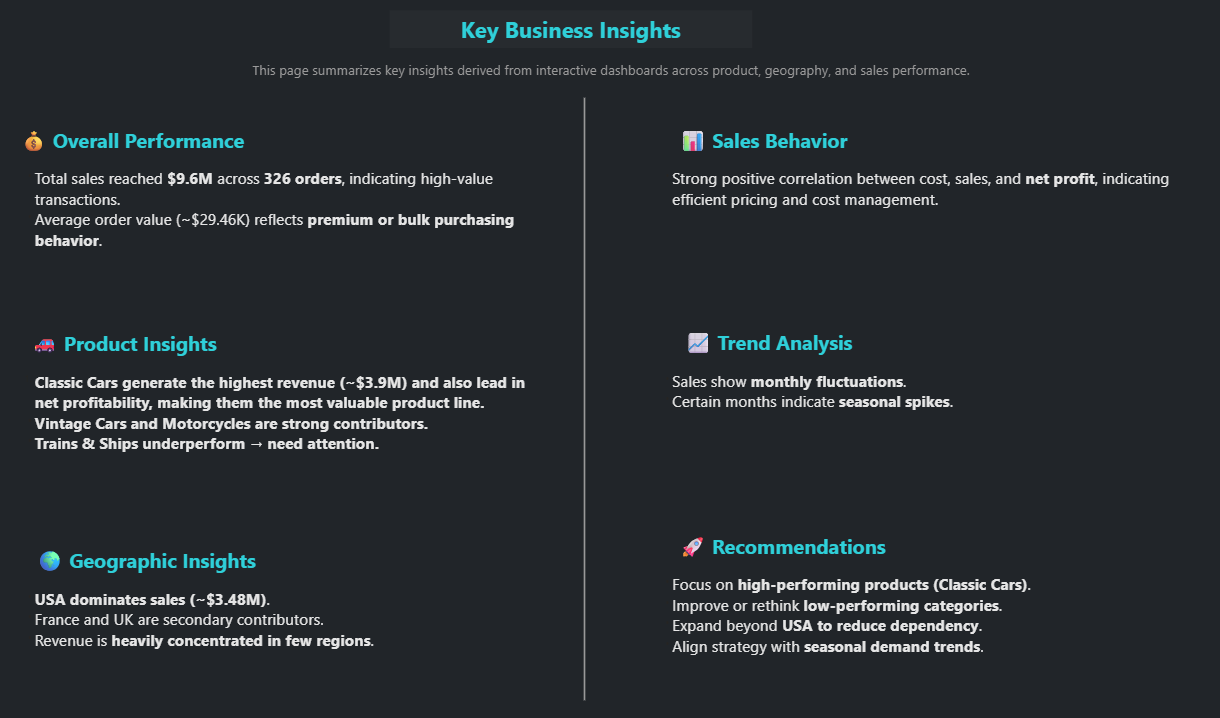

What the dashboard file says about the page in this screenshot:
{"tool":"powerbi","page":{"name":"Business Insights & Recommendations","canvas":[1500,900],"ordinal":2},"visuals":[{"type":"textbox","box":[485.6,25.6,437.3,45.2],"z":0},{"type":"textbox","box":[34.7,143.4,642.4,224],"z":1000},{"type":"textbox","box":[34.7,388.5,642.4,224],"z":2000},{"type":"textbox","box":[34.7,633.6,642.4,224],"z":3000},{"type":"textbox","box":[803.8,143.1,642.4,224.7],"z":4000},{"type":"textbox","box":[803.8,388.1,642.4,224.7],"z":5000},{"type":"textbox","box":[803.8,633.2,642.4,224.7],"z":6000},{"type":"shape","box":[692.2,131.2,57.3,726.9],"z":7000},{"type":"textbox","box":[315.2,81.4,932,33.2],"z":8000}]}

Visuals, with their boxes in screenshot pixels (x1, y1, x2, y2), scaled from the page's 1500x900 canvas onto the 1220x718 screenshot:
textbox: BBox(395, 20, 751, 56)
textbox: BBox(28, 114, 551, 293)
textbox: BBox(28, 310, 551, 489)
textbox: BBox(28, 505, 551, 684)
textbox: BBox(654, 114, 1176, 293)
textbox: BBox(654, 310, 1176, 489)
textbox: BBox(654, 505, 1176, 684)
shape: BBox(563, 105, 610, 685)
textbox: BBox(256, 65, 1014, 91)
